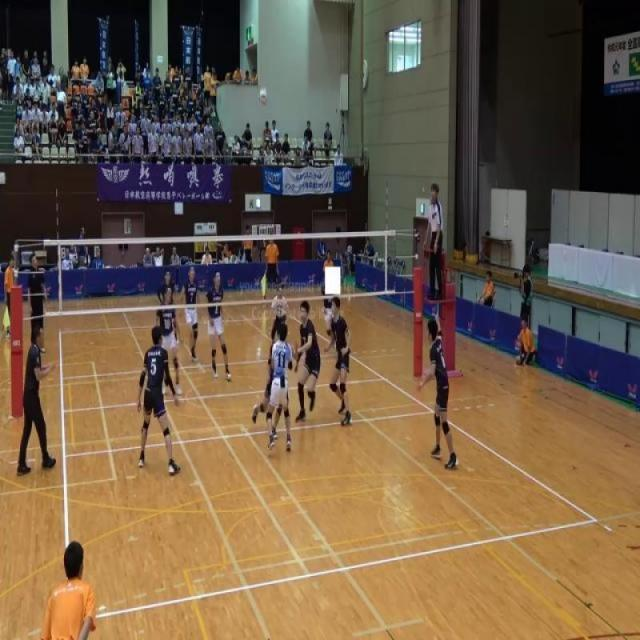volleyball: (258, 85, 268, 106)
